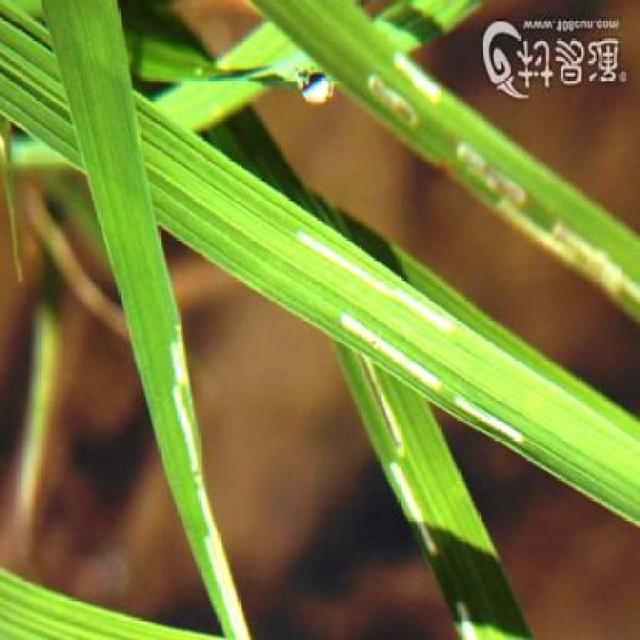rice-bug: (296, 68, 338, 104)
